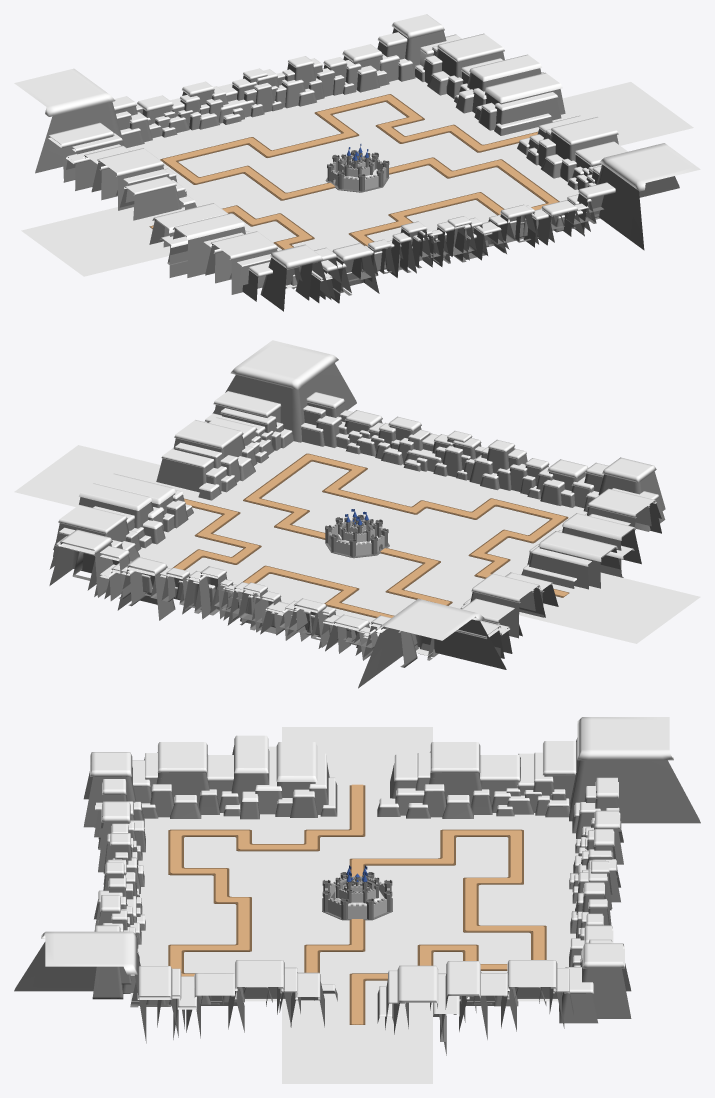
The model's file is MainStage(2line.prototype) 1.fbx.
3 views of the same model, one above another, from view 1: azimuth 30°, elevation 25°; view 2: azimuth 150°, elevation 25°; view 3: azimuth 270°, elevation 25° (orthographic). The views are drawn at different scales.
Visible parts, largest first — view 1: rock.mountain, plane, enemy.road, map2.castle; view 2: rock.mountain, plane, enemy.road, map2.castle; view 3: rock.mountain, plane, enemy.road, map2.castle.
Part boxes in pixels (x1,y1,x2,y2): rock.mountain: [14, 14, 700, 311]; plane: [21, 77, 693, 288]; enemy.road: [149, 94, 559, 249]; map2.castle: [325, 144, 389, 192]; rock.mountain: [49, 340, 665, 688]; plane: [14, 441, 700, 655]; enemy.road: [173, 453, 569, 617]; map2.castle: [325, 509, 389, 558]; rock.mountain: [14, 717, 700, 1055]; plane: [130, 727, 578, 1083]; enemy.road: [168, 784, 546, 1024]; map2.castle: [322, 865, 392, 920].
Size of the model in its own units: 7451 by 813 by 6061.
